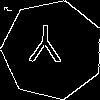Y: (27, 25, 62, 71)
